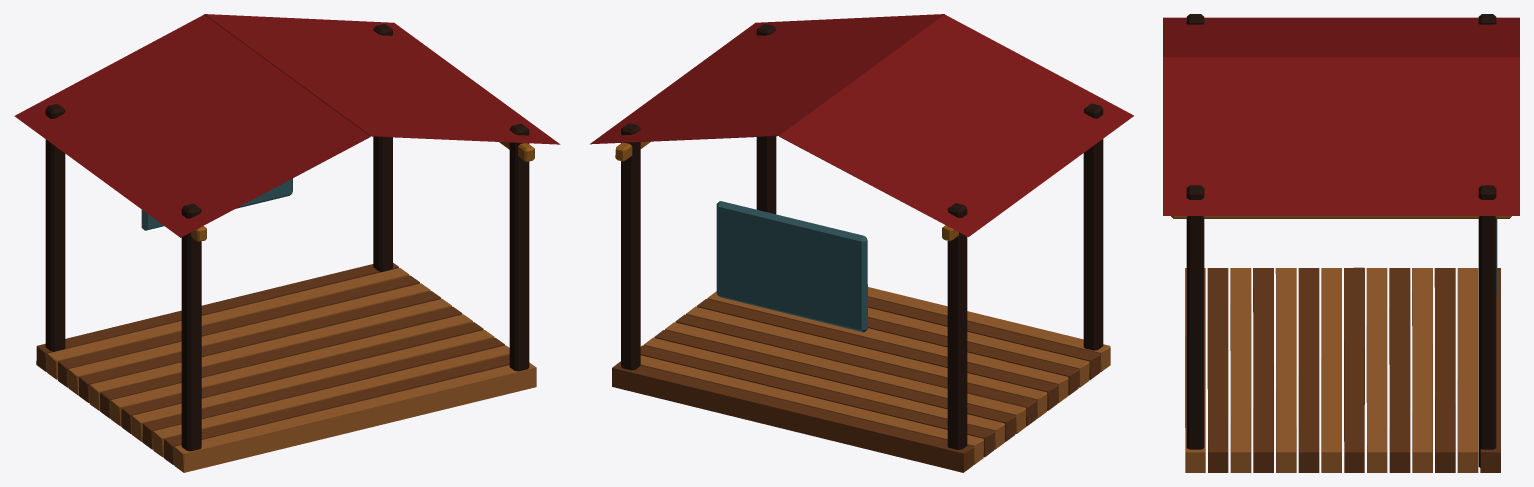
File: Pavilhao_de_eventos_LOD1.fbx
3 renders of one model, left to right at view 1: azimuth 30°, elevation 25°; view 2: azimuth 150°, elevation 25°; view 3: azimuth 270°, elevation 25°, orthographic. The views are drawn at different scales.
Parts seen in each view (by area): view 1: Pavilhao_de_eventos_LOD1; view 2: Pavilhao_de_eventos_LOD1; view 3: Pavilhao_de_eventos_LOD1.
Part boxes in pixels (left/top/right/bottom): Pavilhao_de_eventos_LOD1: left=14, top=14, right=560, bottom=472; Pavilhao_de_eventos_LOD1: left=590, top=14, right=1133, bottom=472; Pavilhao_de_eventos_LOD1: left=1163, top=14, right=1519, bottom=472.
Bounding box in the file's own units: 580 × 441 × 440.
1 material, 1 textured.
